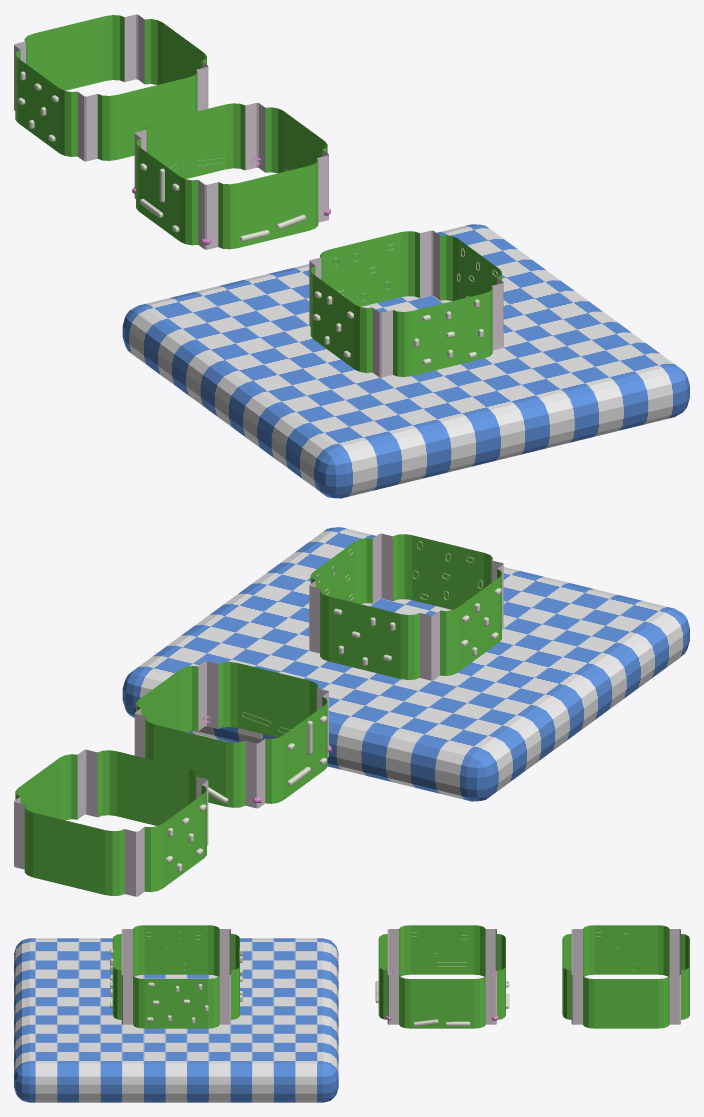
File: Dora.fbx
3 views of the same model, one above another, from view 1: azimuth 30°, elevation 25°; view 2: azimuth 150°, elevation 25°; view 3: azimuth 270°, elevation 25° (orthographic). The views are drawn at different scales.
Parts seen in each view (by area): view 1: platfotrma, Part-1.001, Part-1, Part-1.002; view 2: platfotrma, Part-1.002, Part-1, Part-1.001; view 3: platfotrma, Part-1.001, Part-1, Part-1.002.
Part boxes in pixels (box(x1,y1,x2,y2)): platfotrma: box(122, 224, 689, 498); Part-1.001: box(132, 102, 330, 249); Part-1: box(309, 230, 503, 377); Part-1.002: box(14, 14, 208, 161); platfotrma: box(122, 527, 689, 801); Part-1.002: box(14, 749, 208, 896); Part-1: box(309, 533, 503, 680); Part-1.001: box(134, 661, 331, 808); platfotrma: box(14, 938, 338, 1102); Part-1.001: box(375, 925, 509, 1028); Part-1: box(110, 925, 242, 1028); Part-1.002: box(562, 925, 689, 1028).
Bounding box in the file's own units: 594 × 176 × 1237.
